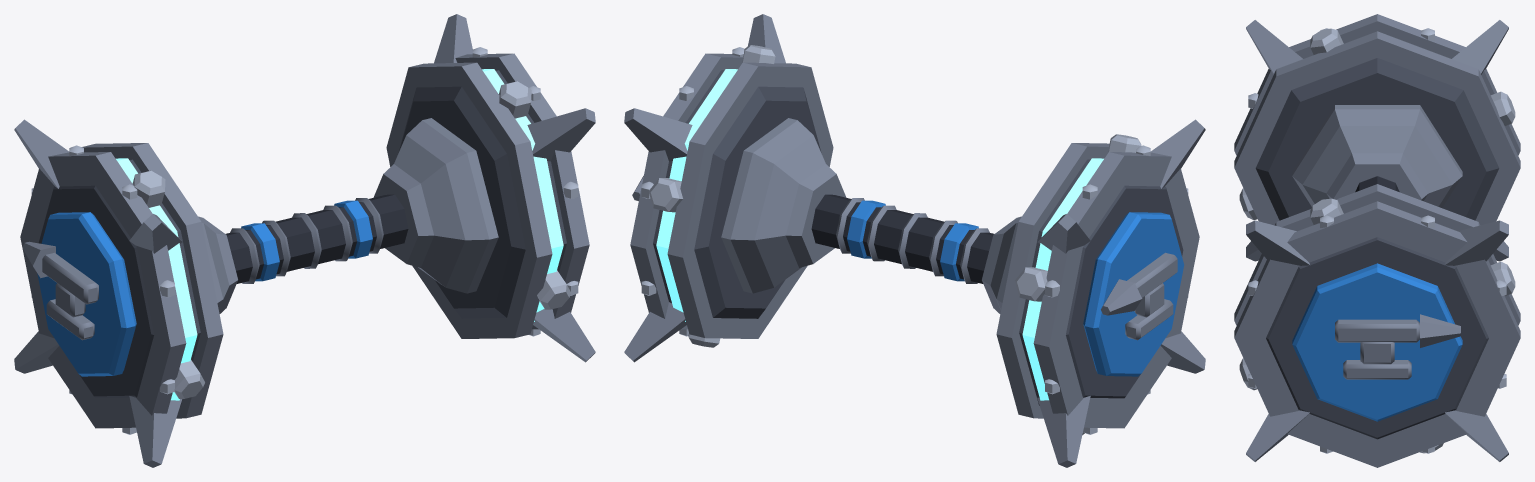
File: db_04_iron.glb
The picture shows the model from 3 angles, left to right: view 1: azimuth 30°, elevation 25°; view 2: azimuth 150°, elevation 25°; view 3: azimuth 270°, elevation 25°; orthographic projection. The views are drawn at different scales.
Parts seen in each view (by area): view 1: db_04_iron; view 2: db_04_iron; view 3: db_04_iron.
Part boxes in pixels (bbox=[...]): db_04_iron: bbox=[14, 14, 595, 467]; db_04_iron: bbox=[624, 14, 1205, 467]; db_04_iron: bbox=[1234, 14, 1520, 467].
Bounding box in the file's own units: 3.22 × 1.68 × 1.68.
